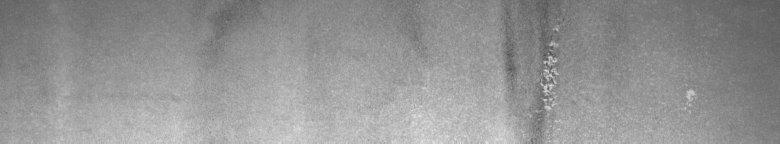hc: (500, 8, 565, 132)
